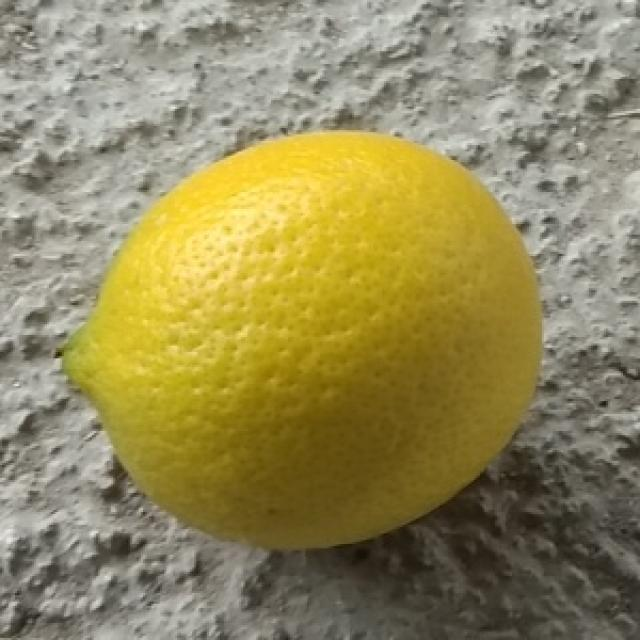Ripe: (58, 126, 546, 555)
